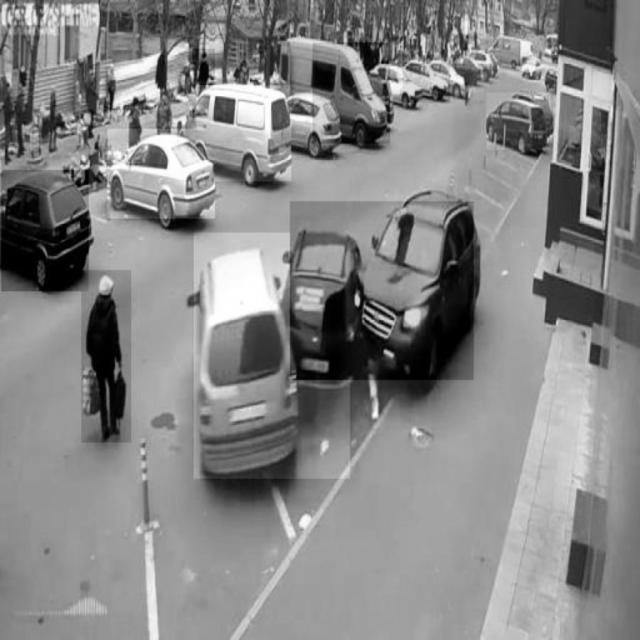accident: (194, 233, 350, 479), (290, 202, 474, 380)
person: (81, 271, 131, 443), (120, 97, 146, 147), (193, 49, 215, 94)
vehicle: (1, 170, 89, 291), (108, 129, 216, 219), (197, 85, 291, 181), (313, 43, 390, 144), (487, 93, 551, 150), (291, 91, 343, 152), (403, 63, 450, 103), (481, 35, 531, 65)
